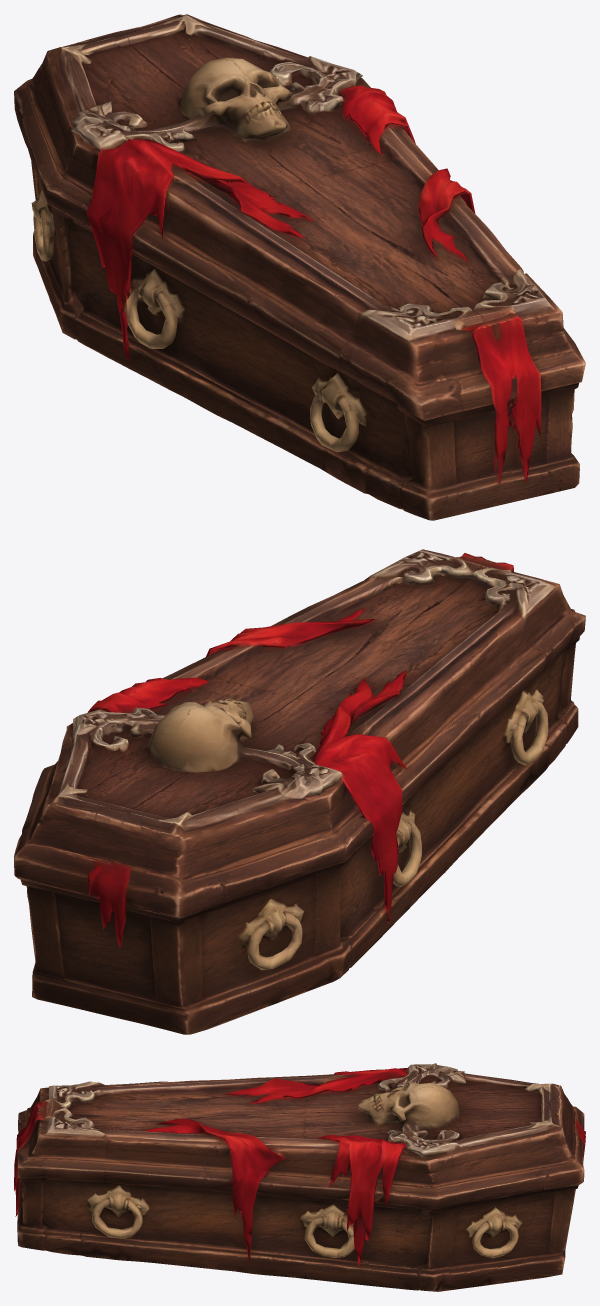
Rendered from rawa-peti.glb.
3 renders of one model, top to bottom at view 1: azimuth 30°, elevation 25°; view 2: azimuth 150°, elevation 25°; view 3: azimuth 270°, elevation 25°, orthographic. The views are drawn at different scales.
Parts seen in each view (by area): view 1: tripo_node_4b016635-b85a-4ca4-9192-6487df3a371c; view 2: tripo_node_4b016635-b85a-4ca4-9192-6487df3a371c; view 3: tripo_node_4b016635-b85a-4ca4-9192-6487df3a371c.
Boxes of the visible parts, x1=… form: tripo_node_4b016635-b85a-4ca4-9192-6487df3a371c: x1=14, y1=14, x2=585, y2=520; tripo_node_4b016635-b85a-4ca4-9192-6487df3a371c: x1=14, y1=549, x2=585, y2=1034; tripo_node_4b016635-b85a-4ca4-9192-6487df3a371c: x1=14, y1=1063, x2=585, y2=1291.
Size of the model in its own units: 0.4409 by 0.3226 by 1.
1 material, 1 textured.
